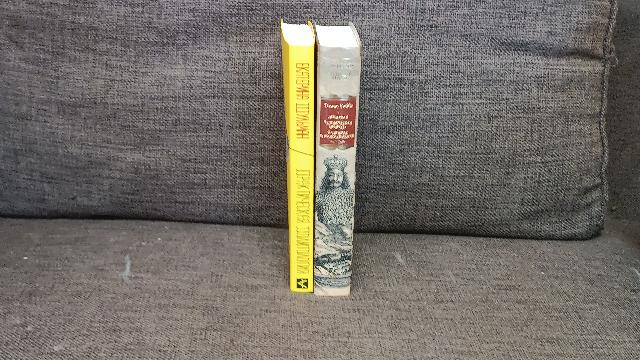book-s-spine: (314, 47, 362, 297), (289, 46, 314, 293)
